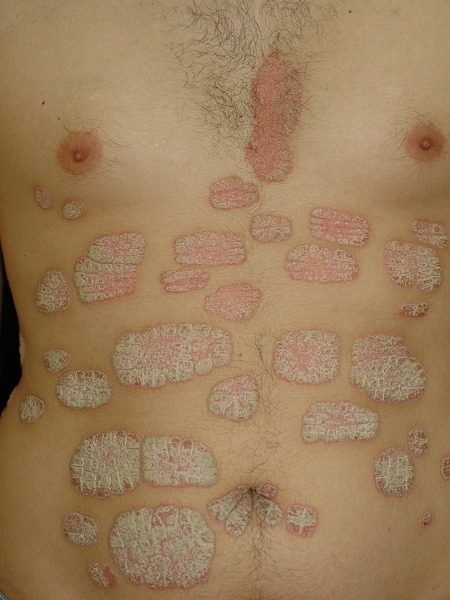Psoriasis: (103, 495, 215, 596), (238, 39, 303, 192), (109, 319, 242, 386), (72, 227, 153, 308), (66, 423, 144, 493), (138, 433, 225, 493), (206, 479, 286, 536), (268, 326, 339, 384), (295, 399, 384, 444), (378, 239, 448, 293), (166, 229, 252, 268), (205, 371, 268, 424), (282, 244, 360, 285), (200, 279, 269, 324), (308, 203, 381, 245), (367, 442, 416, 502), (196, 176, 268, 214), (55, 365, 118, 408), (29, 263, 73, 319), (156, 257, 211, 295), (55, 503, 103, 546), (246, 212, 303, 244), (12, 389, 50, 430), (81, 562, 125, 597), (288, 500, 323, 542), (413, 215, 449, 253), (39, 345, 74, 374), (401, 297, 432, 323), (61, 197, 88, 223), (35, 183, 53, 216)
